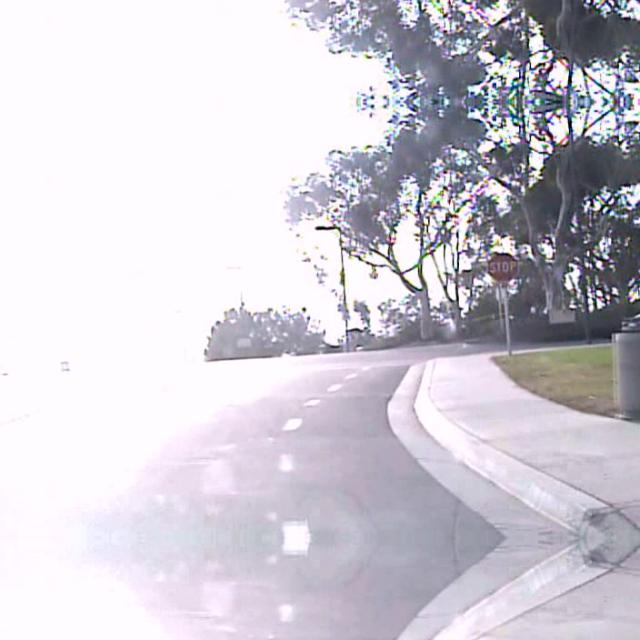stop: (487, 251, 517, 281)
